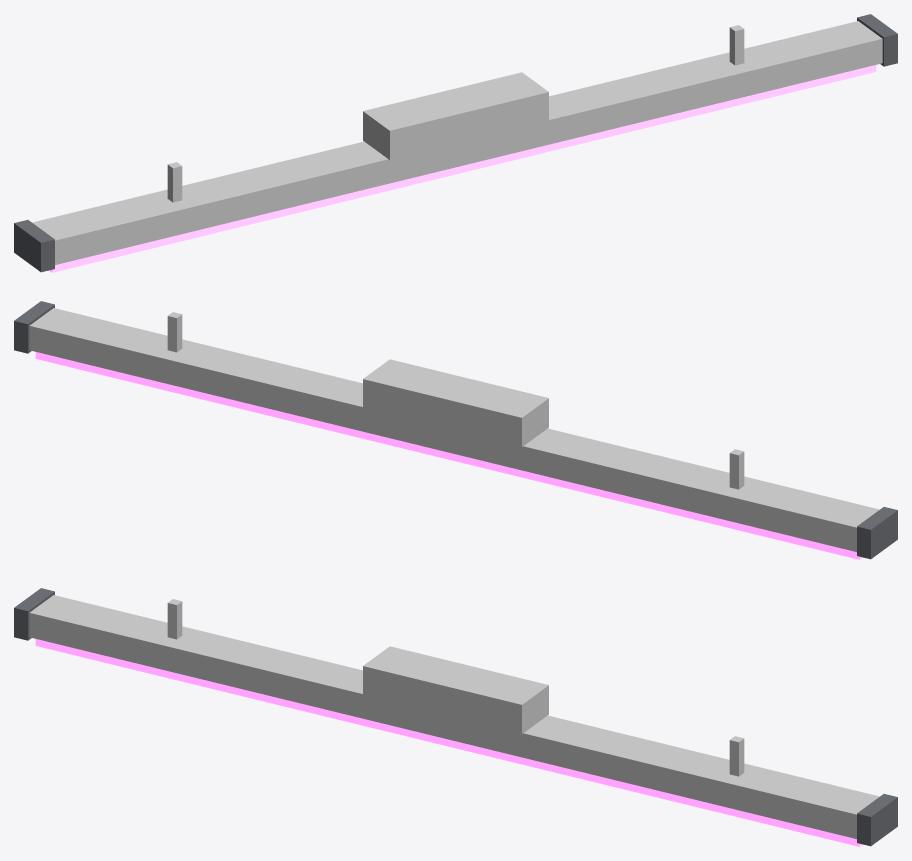
Rendered from vertical-farm-and-hydroponics-tower-vertical-farm-and--5e10b0ad__38397.glb.
The picture shows the model from 3 angles, top to bottom: view 1: azimuth 30°, elevation 25°; view 2: azimuth 150°, elevation 25°; view 3: azimuth 330°, elevation 25°; orthographic projection.
Visible parts, largest first — view 1: vertical-farm-and-hydroponics-tower-led-grow-bar; view 2: vertical-farm-and-hydroponics-tower-led-grow-bar; view 3: vertical-farm-and-hydroponics-tower-led-grow-bar.
Part boxes in pixels (bbox=[...]): vertical-farm-and-hydroponics-tower-led-grow-bar: bbox=[14, 14, 897, 272]; vertical-farm-and-hydroponics-tower-led-grow-bar: bbox=[14, 301, 897, 559]; vertical-farm-and-hydroponics-tower-led-grow-bar: bbox=[14, 588, 897, 846].
Bounding box in the file's own units: 1.83 × 0.1419 × 0.1001.
